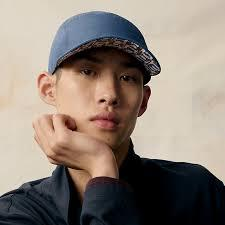cap: (44, 5, 171, 82)
